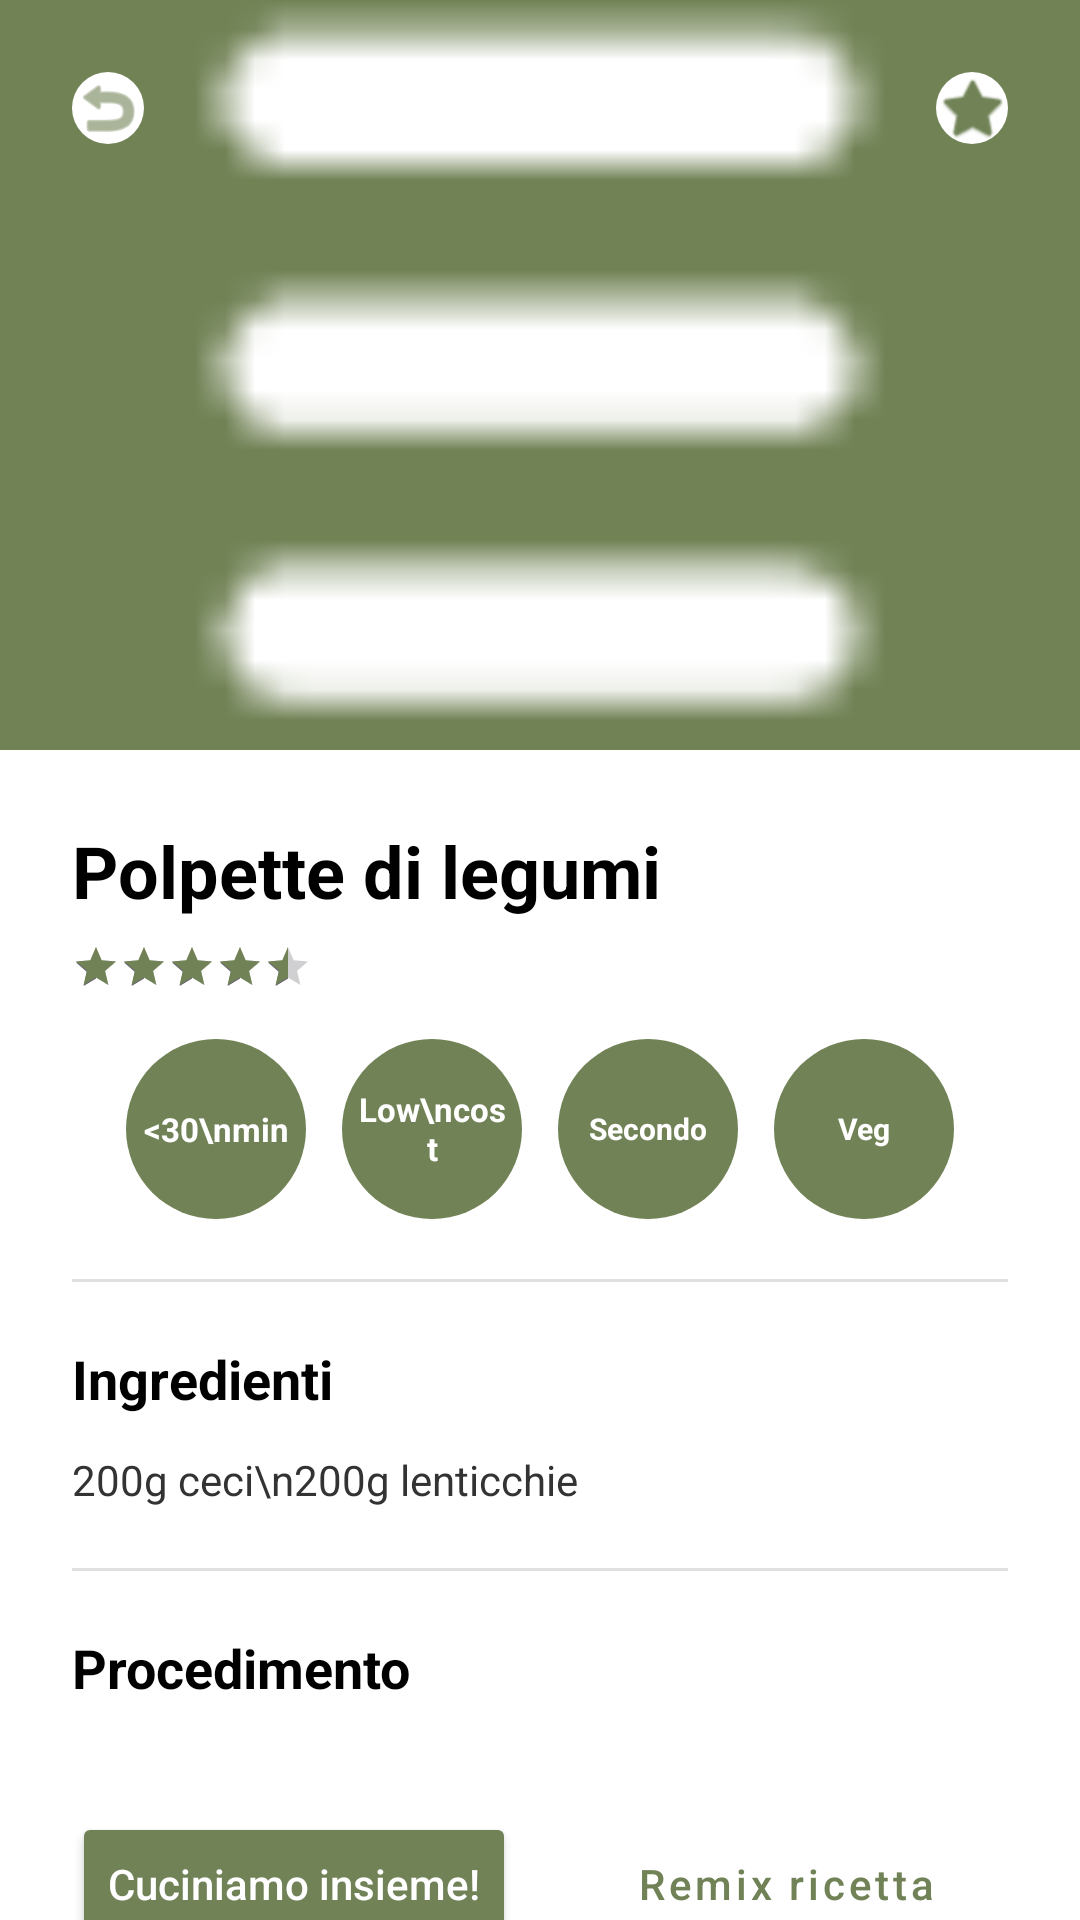

Icons on this 1080*1920 Android screen, each with its box as (x1, y1, x2, y2):
revert: (72, 72, 144, 144)
star off: (936, 72, 1008, 144)
